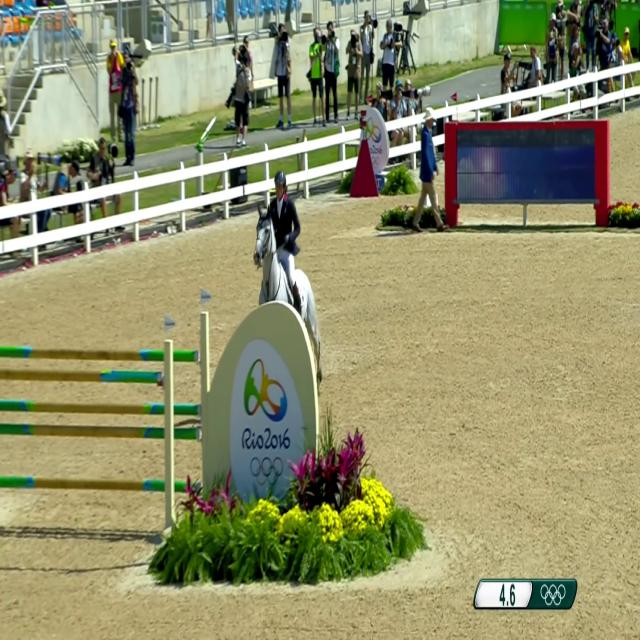Horse Rider: (264, 155, 302, 259)
Horse Running: (247, 208, 330, 384)
